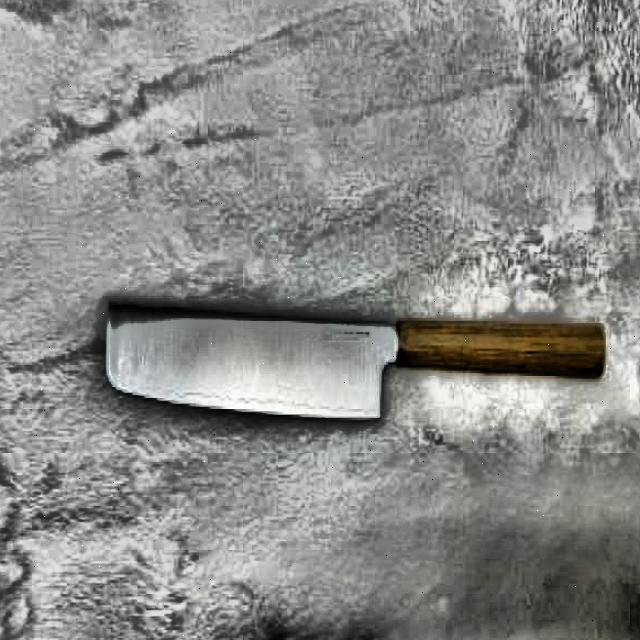knife: (103, 292, 610, 426)
